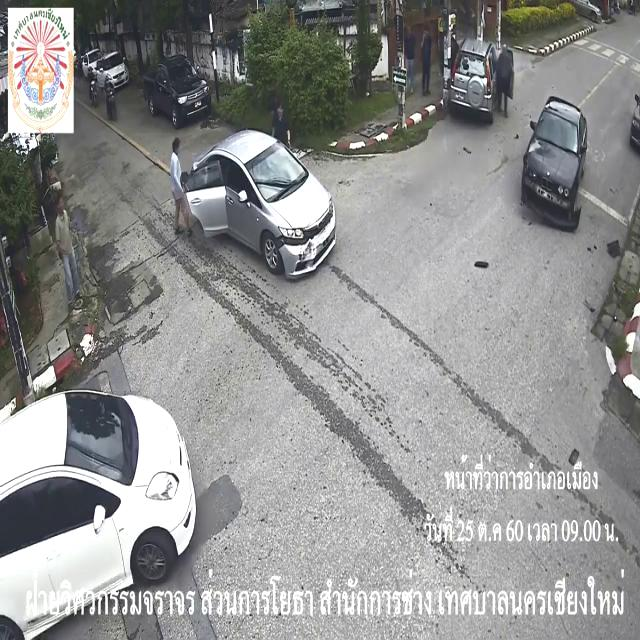accident: (187, 41, 588, 285)
non-accident: (78, 48, 130, 122)
